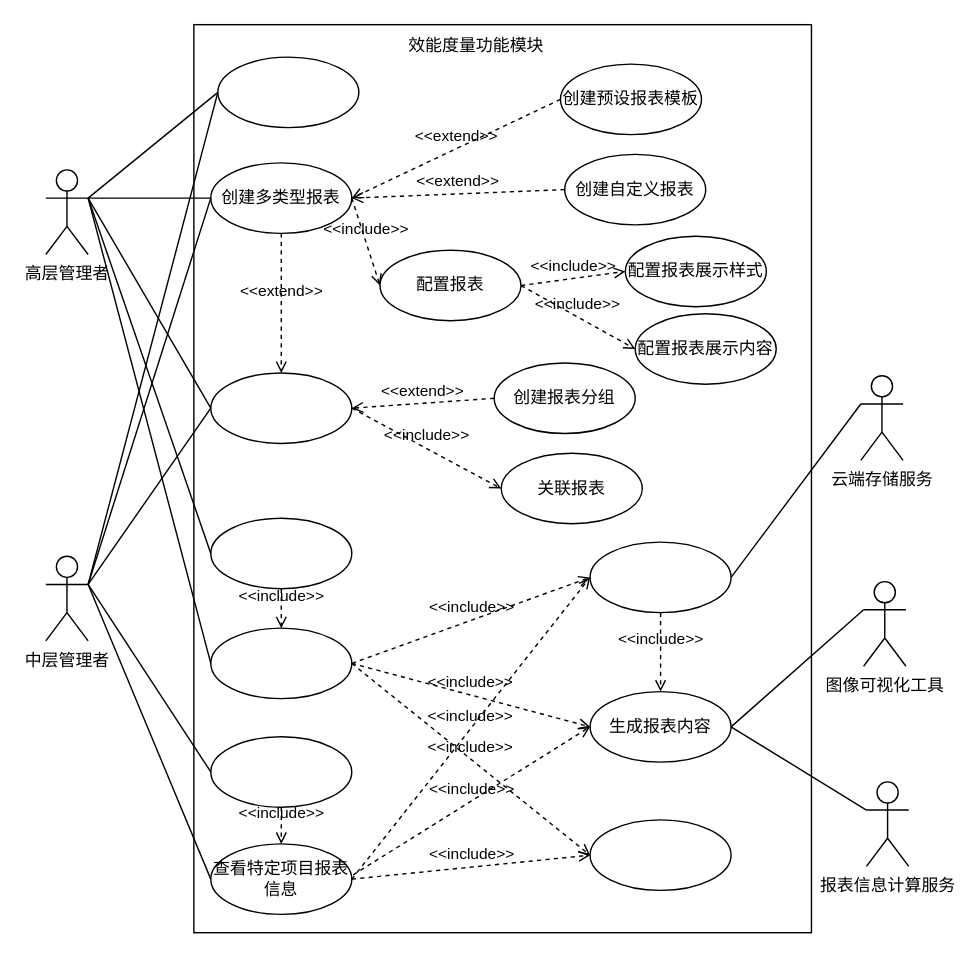
The diagram is 979 pixels wide and 957 high, and some of its shapes have lost their labels. The centre of each missing label's shape, as x and y in pixels:
"创建项目仪表盘" belongs at [280,407].
"多类型导出报表" belongs at [660,577].
"查看仪表盘信息" belongs at [280,553].
"查看报表下钻信息" belongs at [660,854].
"查看报表信息" belongs at [280,663].
"查看特定项目仪表盘信息" belongs at [280,771].
"自定义配置指标" belongs at [287,92].
